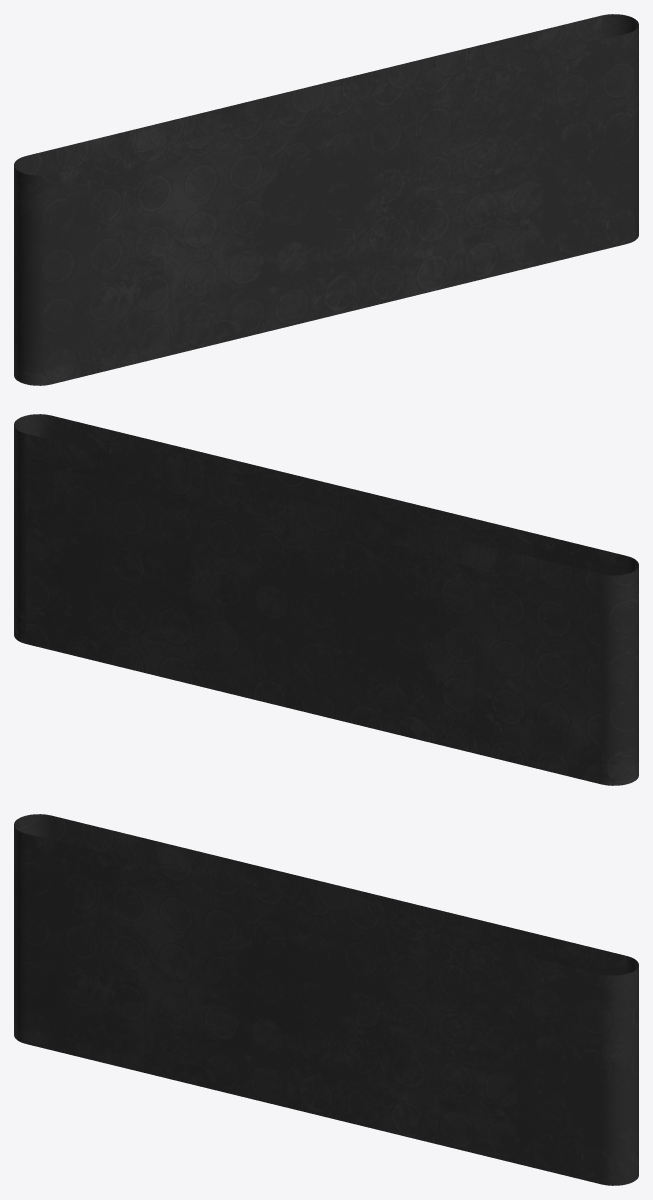
File: belt.obj
The picture shows the model from 3 angles, top to bottom: view 1: azimuth 30°, elevation 25°; view 2: azimuth 150°, elevation 25°; view 3: azimuth 330°, elevation 25°; orthographic projection.
Parts seen in each view (by area): view 1: Conveyor01Belt_Untitled.003; view 2: Conveyor01Belt_Untitled.003; view 3: Conveyor01Belt_Untitled.003.
Boxes of the visible parts, left/top/right/bottom form: Conveyor01Belt_Untitled.003: left=14, top=14, right=638, bottom=385; Conveyor01Belt_Untitled.003: left=14, top=414, right=638, bottom=785; Conveyor01Belt_Untitled.003: left=14, top=814, right=638, bottom=1185.
Size of the model in its own units: 2 by 0.65 by 0.14.
Materials: 1 (1 with a texture image).
